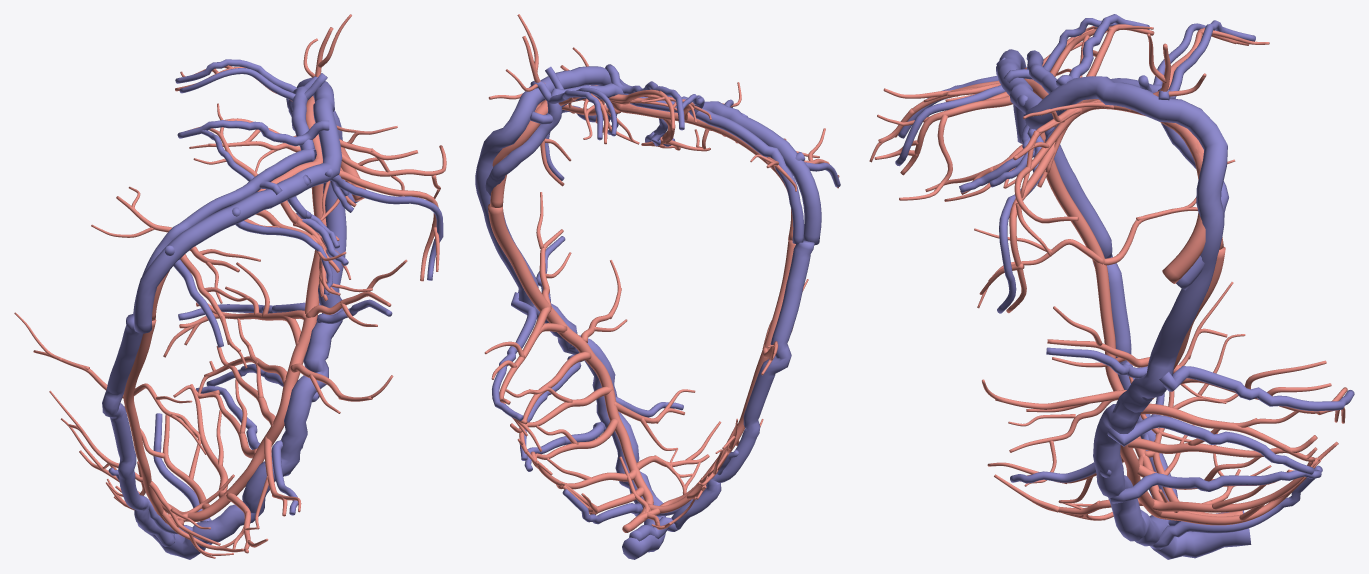
The model's file is vessels_2.glb.
3 views of the same model, side by side, from view 1: azimuth 30°, elevation 25°; view 2: azimuth 150°, elevation 25°; view 3: azimuth 270°, elevation 25° (orthographic). The views are drawn at different scales.
Parts seen in each view (by area): view 1: Renderer Node; view 2: Renderer Node; view 3: Renderer Node.
Boxes of the visible parts, box(x1,y1,x2,y2) form: Renderer Node: box(14, 14, 446, 559); Renderer Node: box(475, 14, 840, 559); Renderer Node: box(869, 14, 1354, 559).
Size of the model in its own units: 91.42 by 124 by 88.81.
